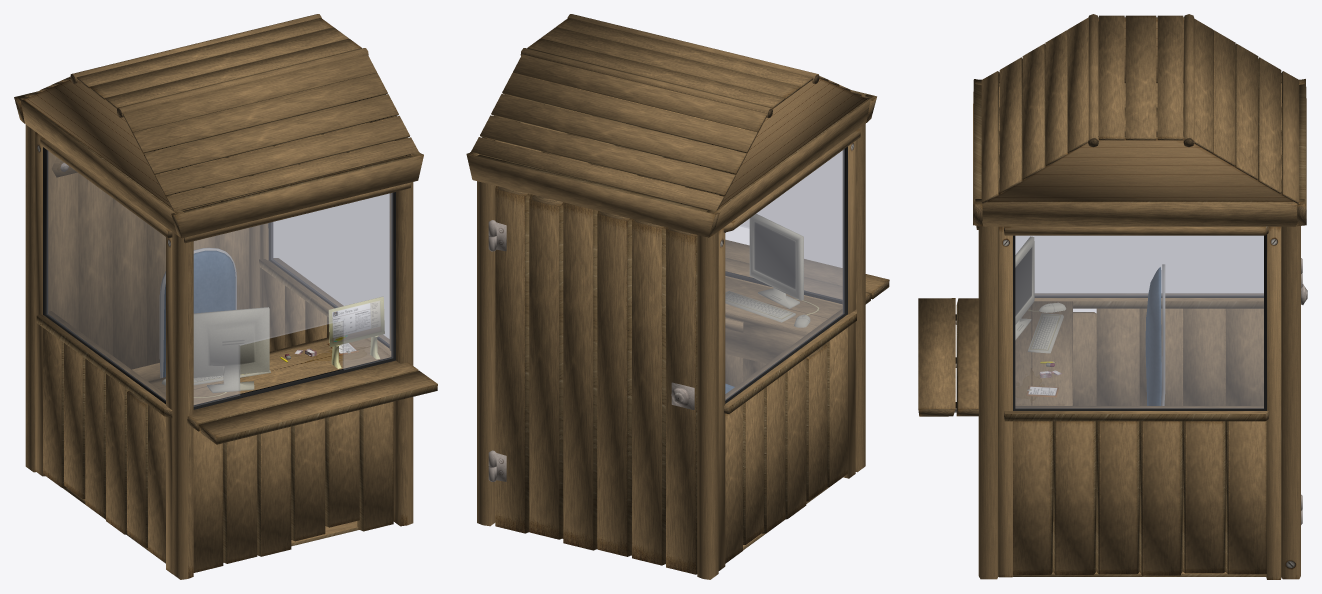
Rendered from TicketBoothSimple01.fbx.
The picture shows the model from 3 angles, left to right: view 1: azimuth 30°, elevation 25°; view 2: azimuth 150°, elevation 25°; view 3: azimuth 270°, elevation 25°; orthographic projection. The views are drawn at different scales.
Visible parts, largest first — view 1: Booth_main, Glass, Roof, Glass_rubber, Chair; view 2: Booth_main, Roof, Glass, Glass_rubber; view 3: Booth_main, Roof, Glass, Chair, Glass_rubber.
Part boxes in pixels (box(x1,y1,x2,y2)): Booth_main: box(14, 91, 437, 579); Glass: box(47, 150, 392, 406); Roof: box(20, 14, 418, 211); Glass_rubber: box(43, 147, 395, 409); Chair: box(159, 247, 236, 377); Booth_main: box(466, 90, 889, 579); Roof: box(471, 14, 869, 211); Glass: box(725, 149, 844, 400); Glass_rubber: box(725, 146, 847, 403); Booth_main: box(918, 79, 1307, 579); Roof: box(981, 14, 1299, 203); Glass: box(1015, 235, 1263, 408); Chair: box(1145, 264, 1165, 405); Glass_rubber: box(1013, 235, 1266, 410).
Bounding box in the file's own units: 185 × 308 × 243.
